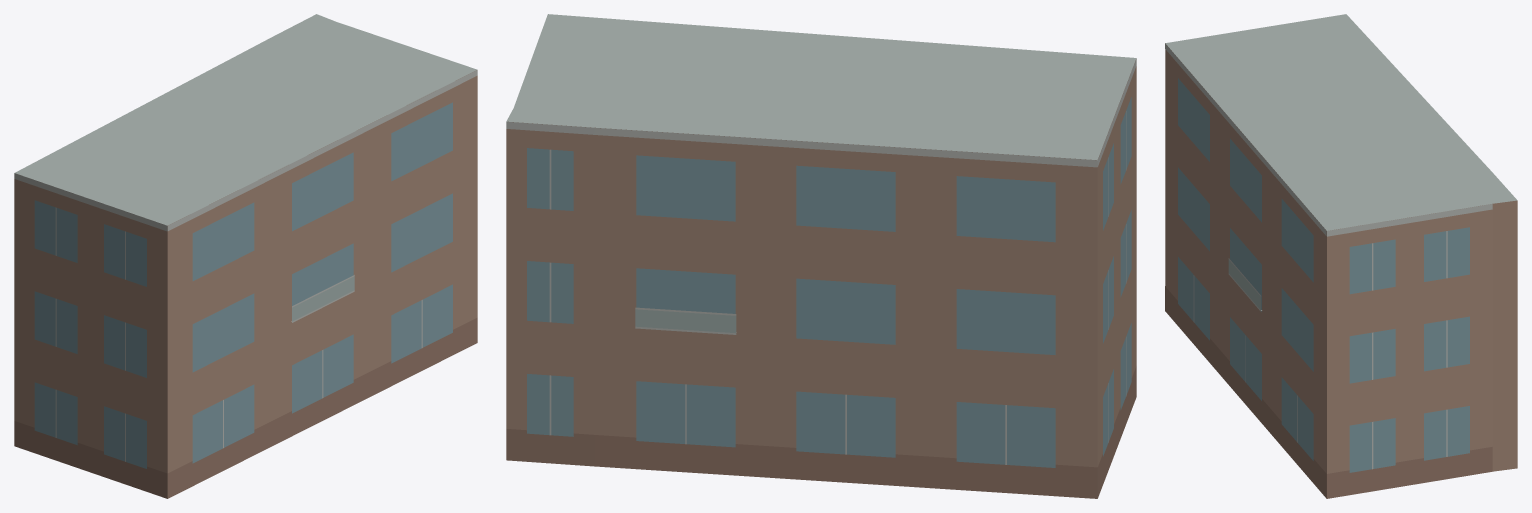
Rendered from survey-upis-32943153.glb.
3 renders of one model, left to right at view 1: azimuth 30°, elevation 25°; view 2: azimuth 150°, elevation 25°; view 3: azimuth 270°, elevation 25°, orthographic. The views are drawn at different scales.
Parts seen in each view (by area): view 1: survey-upis-32943153.tmp; view 2: survey-upis-32943153.tmp; view 3: survey-upis-32943153.tmp.
Part boxes in pixels (x1,y1,x2,y2): survey-upis-32943153.tmp: [14, 14, 477, 498]; survey-upis-32943153.tmp: [506, 14, 1136, 498]; survey-upis-32943153.tmp: [1165, 14, 1517, 498].
Bounding box in the file's own units: 19.81 × 11.4 × 13.6.
